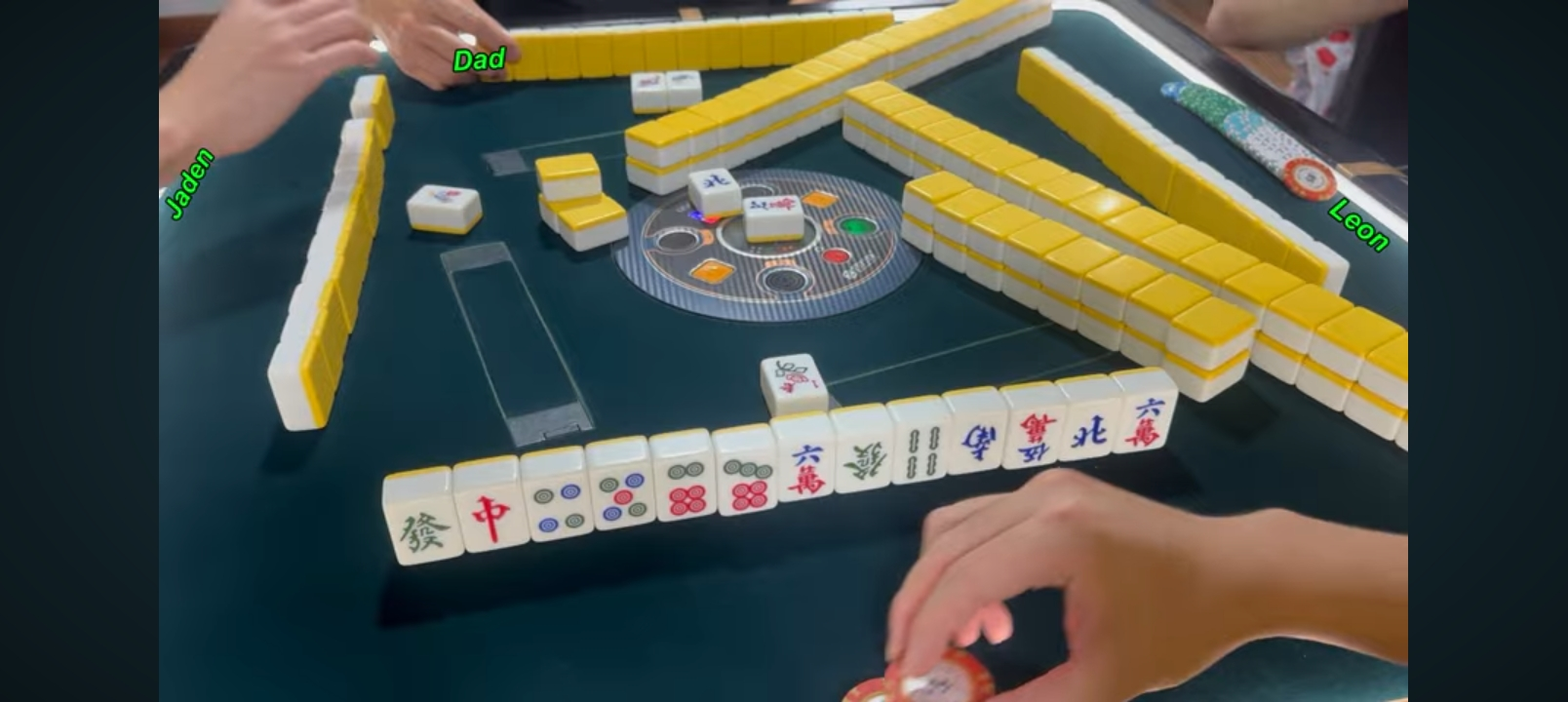TILE: (383, 496, 462, 561), (451, 483, 522, 550), (522, 479, 595, 535), (716, 450, 778, 514), (654, 457, 716, 520), (587, 467, 654, 523), (778, 439, 839, 500), (1007, 409, 1064, 466), (1065, 403, 1123, 459), (761, 354, 831, 400), (838, 434, 895, 490), (897, 424, 952, 481), (1117, 398, 1173, 451), (956, 416, 1007, 473)
